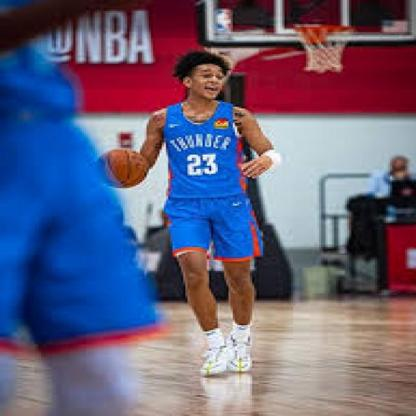basketball: (93, 150, 148, 188)
rim: (293, 25, 358, 32)
